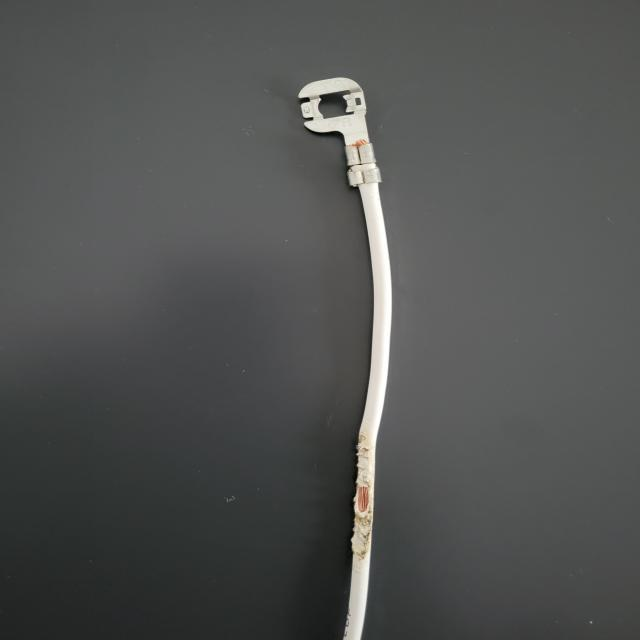defect: (326, 430, 421, 598)
